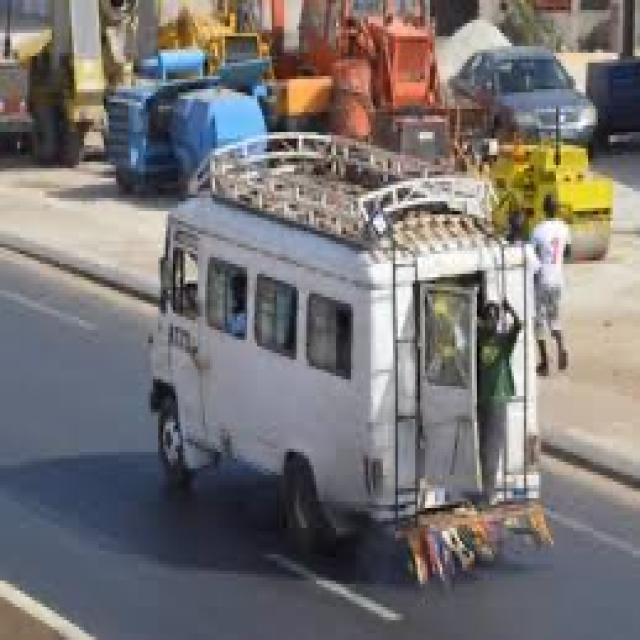ndiaga ndiaye: (152, 136, 540, 535)
particulier: (453, 49, 597, 143)
